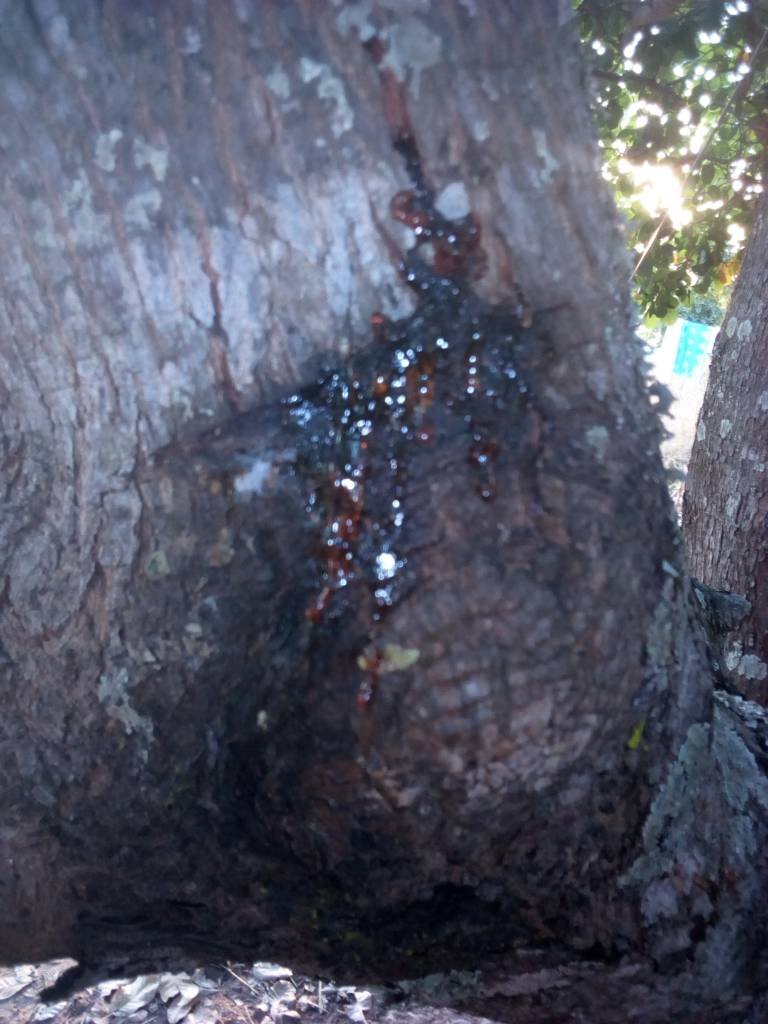Gommose: (274, 203, 493, 791)
